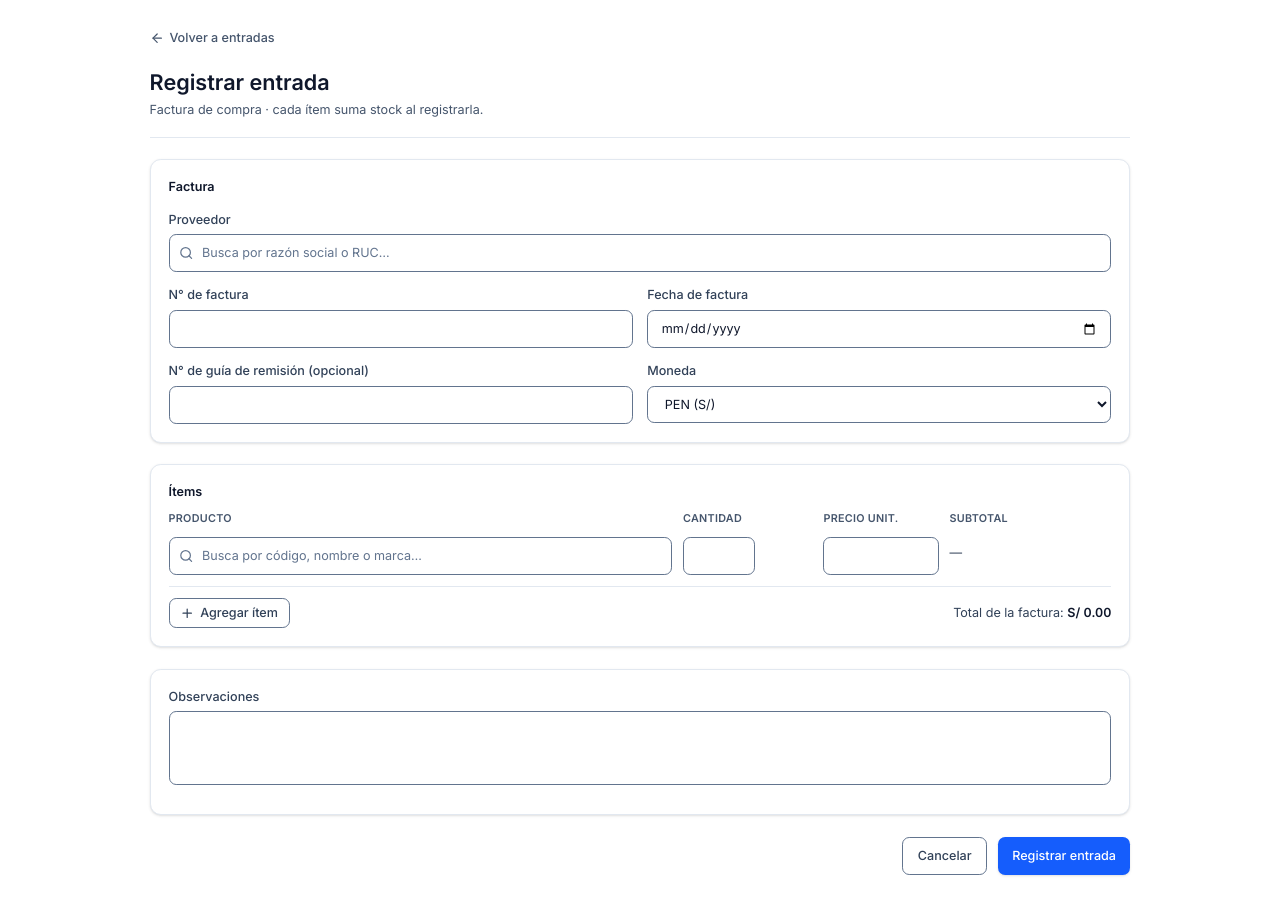
Test: EntryCreatePage › calcula el subtotal de la fila y el total de la factura
In the number field named "Cantidad del ítem 1": point(719, 556) [683,537,755,575], type "10"
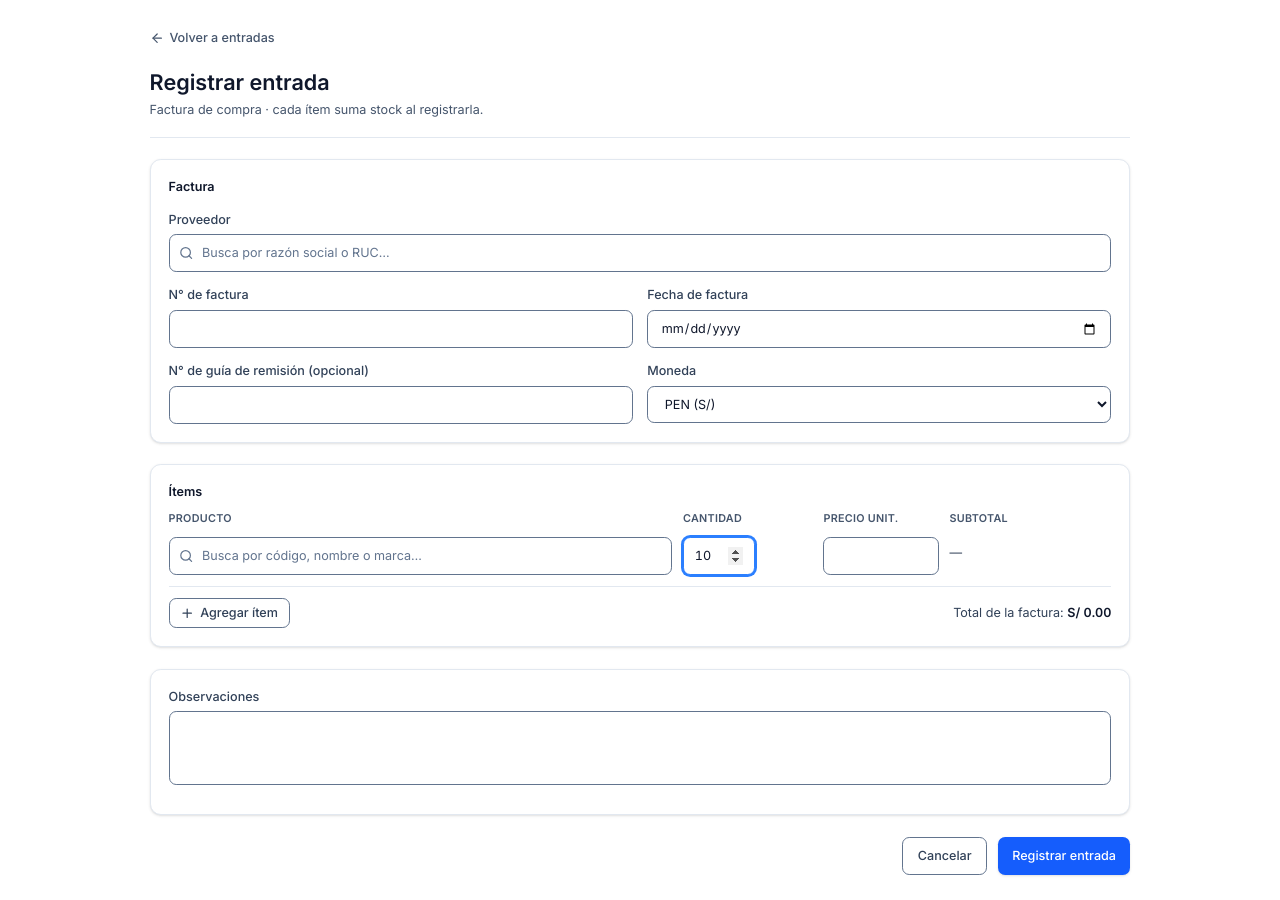
In the number field named "Precio unitario del ítem 1": point(881, 556) [823,537,939,575], type "45"
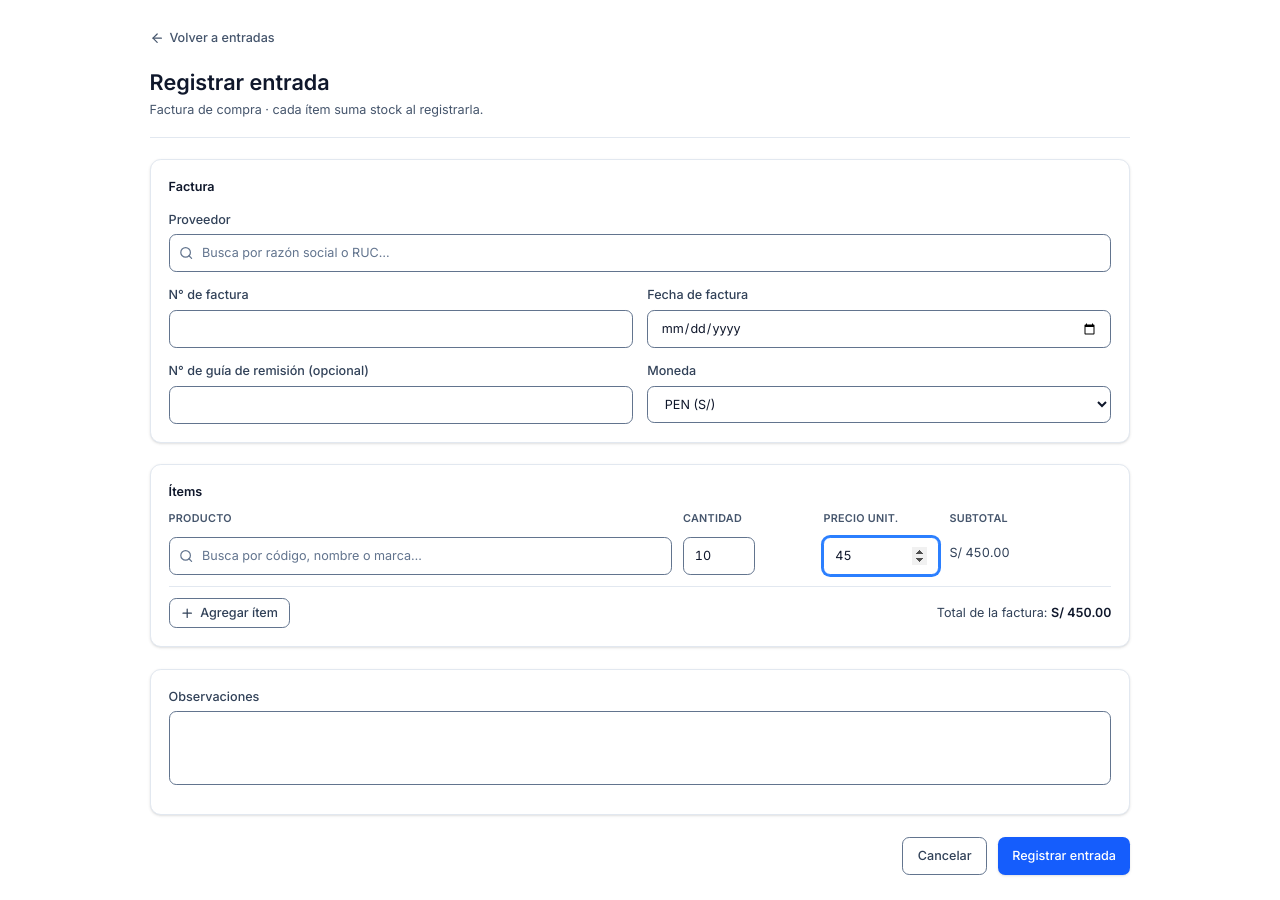
Click the button "Agregar ítem": point(229, 613) [169,598,290,628]
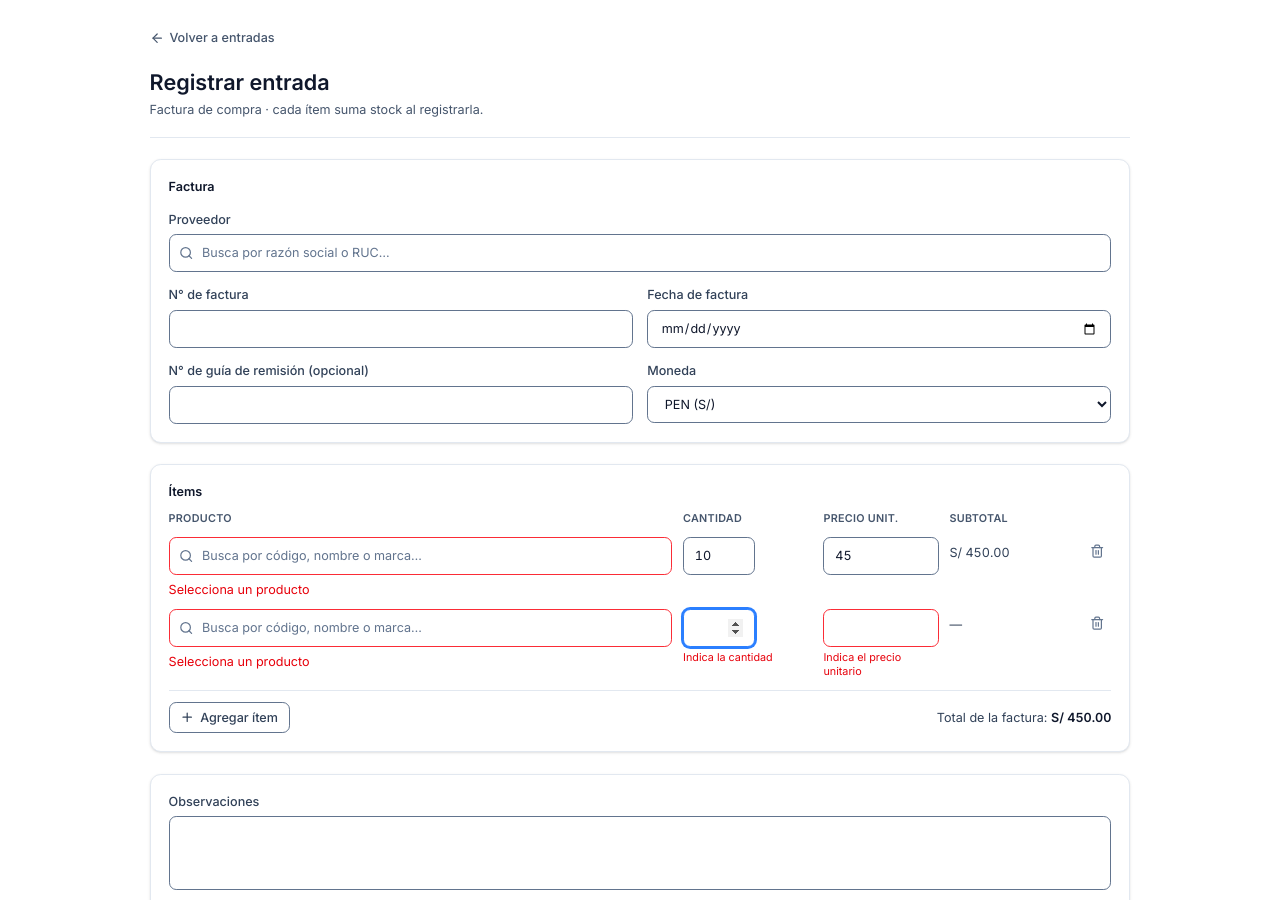
In the number field named "Cantidad del ítem 2": point(719, 628) [683,609,755,647], type "24"
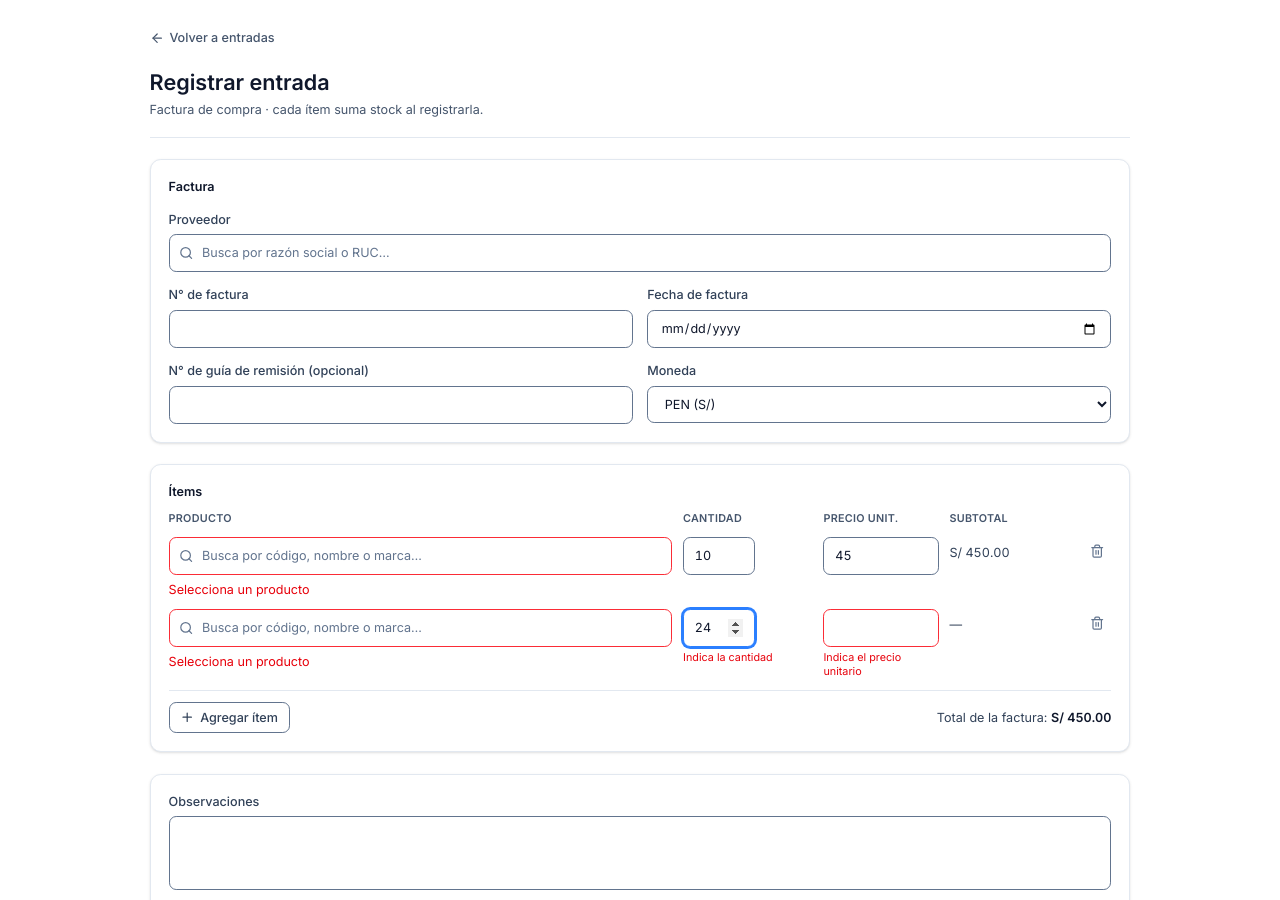
In the number field named "Precio unitario del ítem 2": point(881, 628) [823,609,939,647], type "18.5"
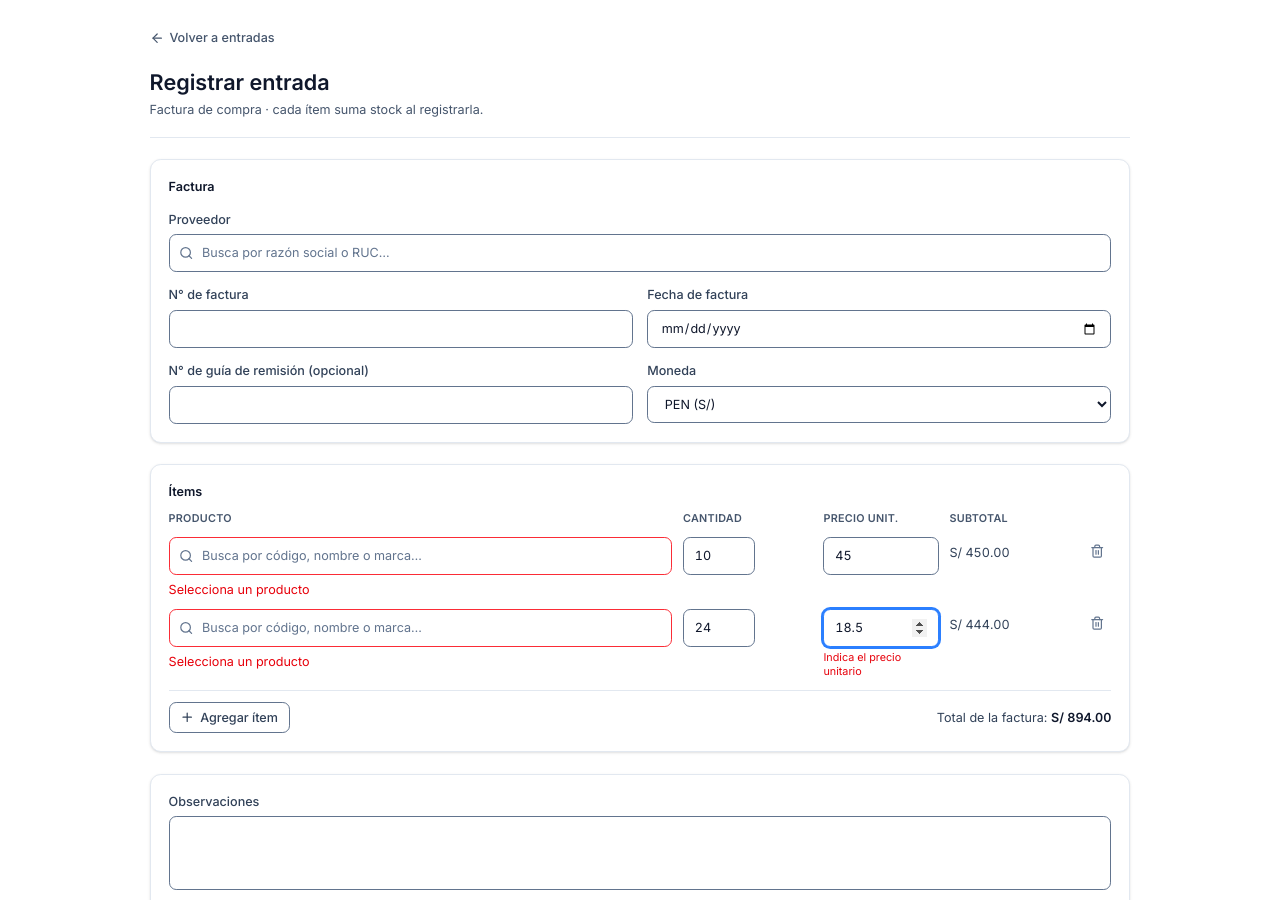
Now the text "S/ 450.00" is shown, box [949,545,1010,560]
Now the text "S/ 444.00" is shown, box [949,618,1010,632]
Now the text "S/ 894.00" is shown, box [1051,710,1111,725]
